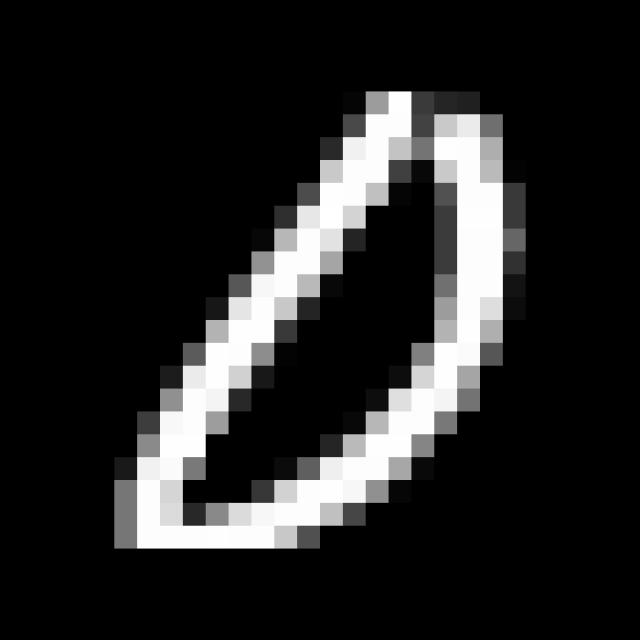zero -0-: (98, 80, 526, 564)
